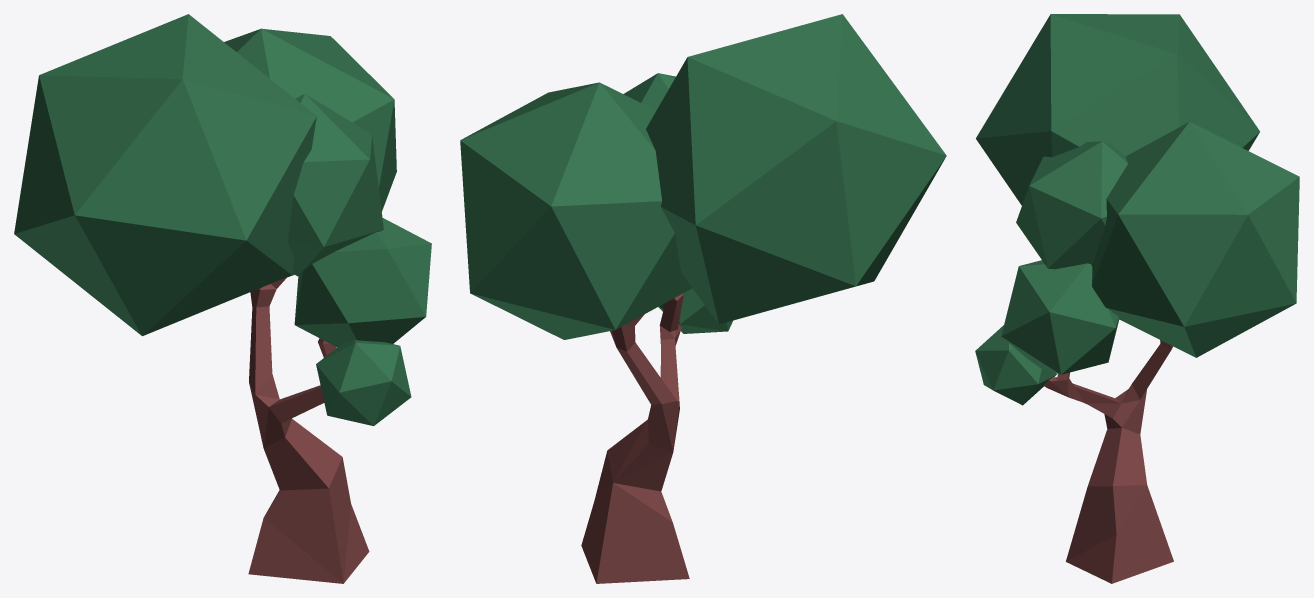
File: medium_tree_1.fbx
3 renders of one model, left to right at view 1: azimuth 30°, elevation 25°; view 2: azimuth 150°, elevation 25°; view 3: azimuth 270°, elevation 25°, orthographic. The views are drawn at different scales.
Parts seen in each view (by area): view 1: Icosphere.003, Cube, Icosphere.001, Icosphere.004, Icosphere.002, Icosphere; view 2: Icosphere.003, Icosphere.002, Cube, Icosphere, Icosphere.004; view 3: Icosphere.002, Icosphere.003, Cube, Icosphere.001, Icosphere.004, Icosphere.
Part boxes in pixels (bbox=[...]): Icosphere.003: bbox=[14, 14, 316, 336]; Cube: bbox=[248, 277, 369, 583]; Icosphere.001: bbox=[294, 218, 431, 347]; Icosphere.004: bbox=[288, 94, 383, 276]; Icosphere.002: bbox=[224, 28, 396, 276]; Icosphere: bbox=[316, 340, 411, 425]; Icosphere.003: bbox=[646, 14, 946, 324]; Icosphere.002: bbox=[460, 82, 691, 339]; Cube: bbox=[581, 293, 689, 583]; Icosphere: bbox=[658, 288, 732, 333]; Icosphere.004: bbox=[623, 73, 675, 110]; Icosphere.002: bbox=[1092, 121, 1299, 357]; Icosphere.003: bbox=[976, 14, 1259, 205]; Cube: bbox=[1044, 340, 1173, 583]; Icosphere.001: bbox=[1001, 260, 1119, 374]; Icosphere.004: bbox=[1016, 141, 1127, 269]; Icosphere: bbox=[975, 325, 1056, 405].
Size of the model in its own units: 198 by 241 by 321.
